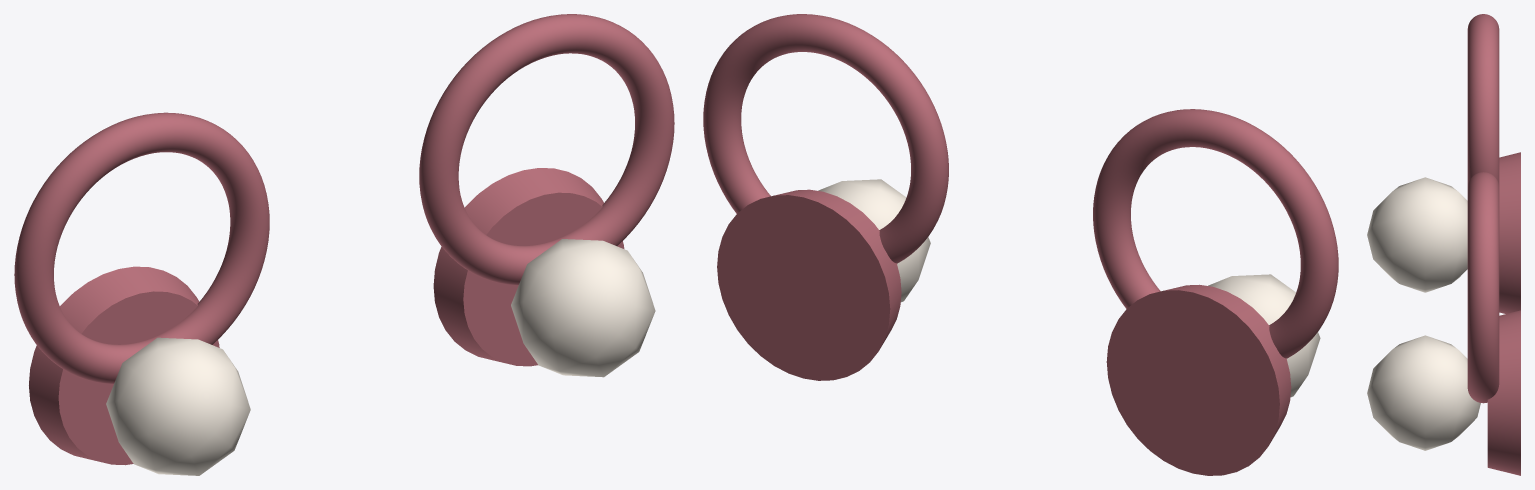
File: leila-pearl-climbers.glb
The picture shows the model from 3 angles, left to right: view 1: azimuth 30°, elevation 25°; view 2: azimuth 150°, elevation 25°; view 3: azimuth 270°, elevation 25°; orthographic projection. The views are drawn at different scales.
Parts seen in each view (by area): view 1: earring_top (×2), stud_gem (×2), stud_base (×2); view 2: stud_base (×2), earring_top (×2), stud_gem (×2); view 3: stud_gem (×2), earring_top (×2), stud_base (×2).
Part boxes in pixels (box(x1,y1,x2,y2)): earring_top (×2): box(14, 14, 674, 383); stud_gem (×2): box(106, 239, 655, 475); stud_base (×2): box(29, 168, 624, 465); stud_base (×2): box(717, 189, 1291, 475); earring_top (×2): box(703, 14, 1338, 358); stud_gem (×2): box(818, 179, 1320, 397); stud_gem (×2): box(1367, 177, 1480, 450); earring_top (×2): box(1467, 14, 1499, 403); stud_base (×2): box(1487, 152, 1520, 475).
Bounding box in the file's own units: 1.46 × 0.758 × 0.37.
